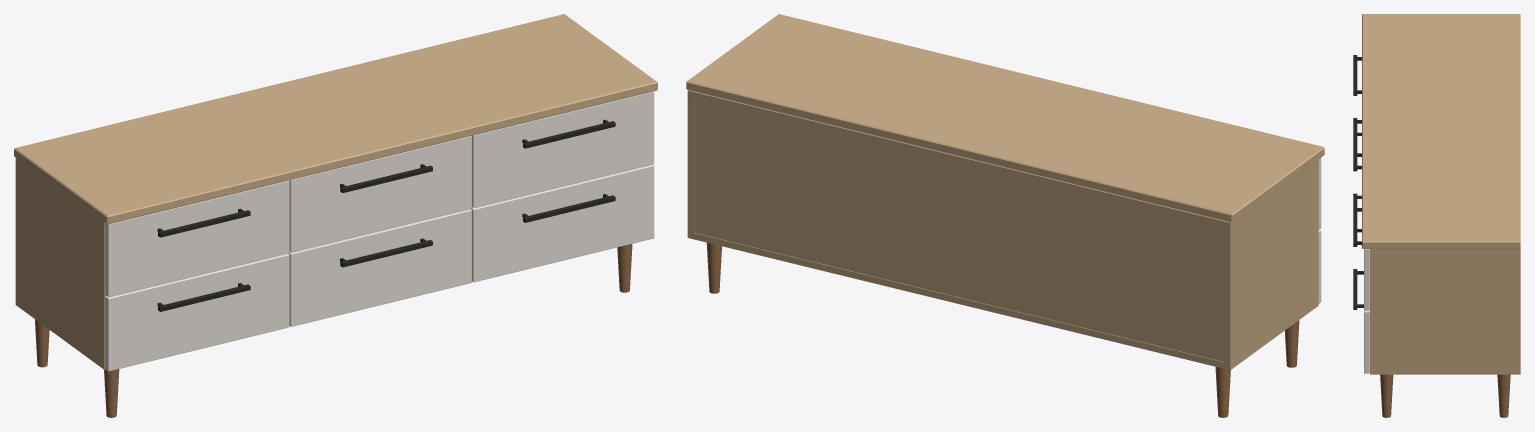
The model's file is 24_komoda_160_niska.glb.
The picture shows the model from 3 angles, left to right: view 1: azimuth 30°, elevation 25°; view 2: azimuth 150°, elevation 25°; view 3: azimuth 270°, elevation 25°; orthographic projection. The views are drawn at different scales.
Parts seen in each view (by area): view 1: Wierzch, Korpus, Front_szuflada_2, Front_szuflada_4, Front_szuflada_6, Front_szuflada_1, Front_szuflada_3, Front_szuflada_5, Uchwyty, Nogi; view 2: Korpus, Wierzch, Nogi; view 3: Wierzch, Korpus, Uchwyty, Nogi, Front_szuflada_6, Front_szuflada_5.
Boxes of the visible parts, x1,y1,x2,y2 form: Wierzch: [14, 14, 657, 224]; Korpus: [15, 158, 106, 369]; Front_szuflada_2: [105, 253, 289, 371]; Front_szuflada_4: [288, 209, 471, 326]; Front_szuflada_6: [471, 164, 654, 282]; Front_szuflada_1: [105, 180, 289, 296]; Front_szuflada_3: [289, 136, 471, 252]; Front_szuflada_5: [472, 91, 654, 207]; Uchwyty: [157, 119, 615, 311]; Nogi: [35, 244, 632, 417]; Korpus: [687, 90, 1318, 370]; Wierzch: [686, 14, 1324, 222]; Nogi: [706, 242, 1299, 417]; Wierzch: [1362, 14, 1520, 248]; Korpus: [1370, 248, 1520, 374]; Uchwyty: [1353, 55, 1363, 309]; Nogi: [1380, 374, 1510, 417]; Front_szuflada_6: [1364, 310, 1369, 373]; Front_szuflada_5: [1364, 249, 1369, 310].
Bounding box in the file's own units: 1.61 × 0.6 × 0.5.
